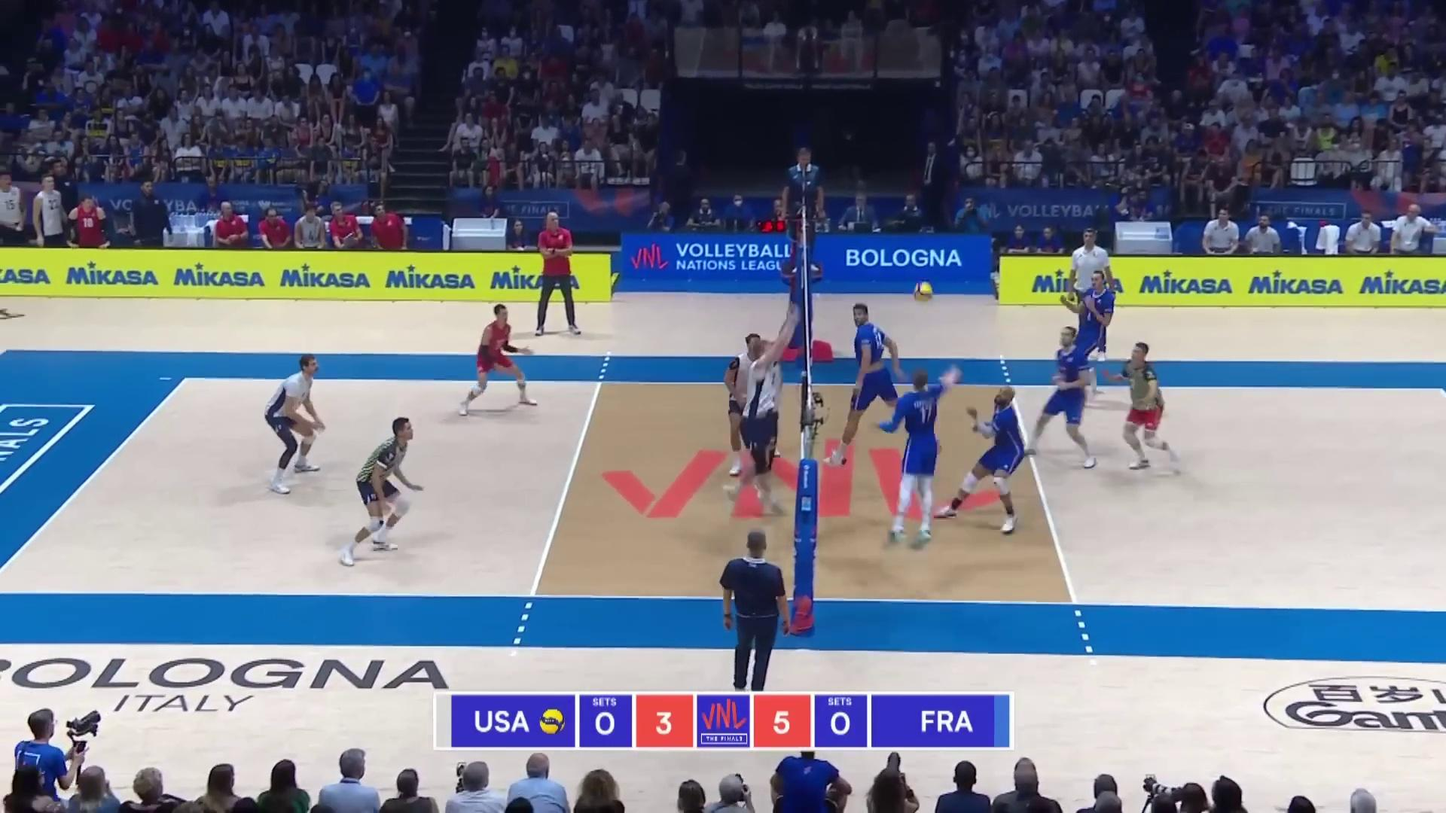player: (881, 365, 961, 548), (936, 386, 1025, 534), (342, 415, 421, 567), (830, 305, 902, 461), (1023, 326, 1097, 470), (1110, 343, 1185, 473), (740, 333, 789, 516), (723, 334, 782, 477), (1051, 272, 1113, 402), (268, 357, 328, 491), (459, 306, 533, 414)
refree: (723, 535, 792, 692), (783, 147, 823, 276)
